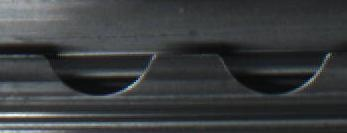twou: (47, 47, 307, 101)
